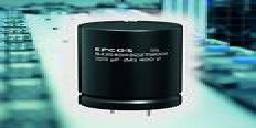Electrolytic-capacitor: (75, 18, 184, 120)
